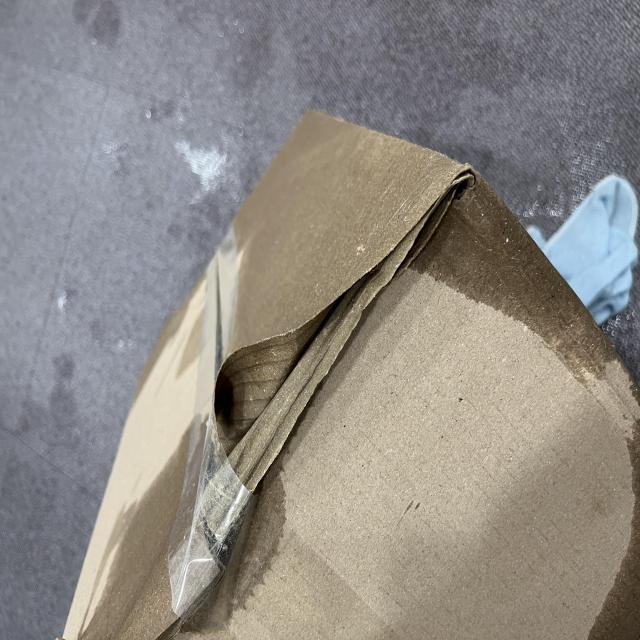wet: (7, 98, 400, 640)
